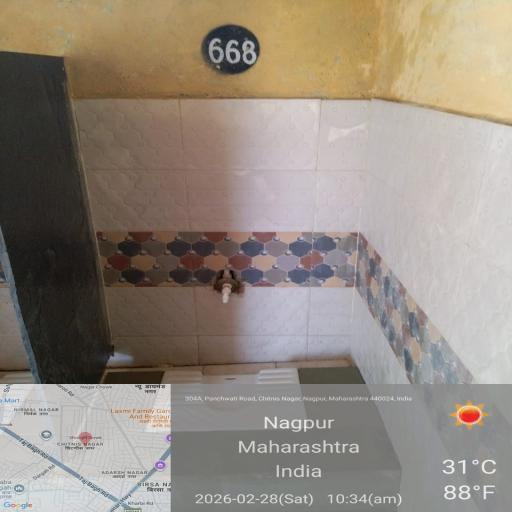clean_floor: (80, 80, 512, 370)
clean_urinal: (106, 360, 512, 512)
